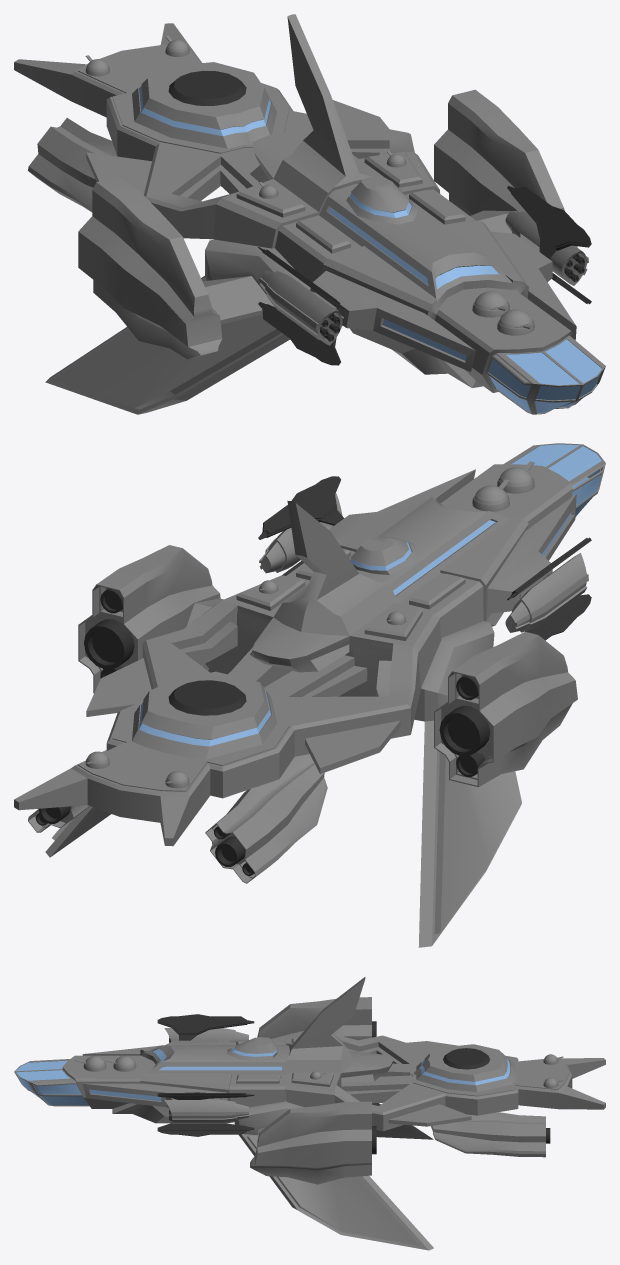
Rendered from Wraith.glb.
The picture shows the model from 3 angles, top to bottom: view 1: azimuth 30°, elevation 25°; view 2: azimuth 150°, elevation 25°; view 3: azimuth 270°, elevation 25°; orthographic projection. The views are drawn at different scales.
Parts seen in each view (by area): view 1: Куб.018; view 2: Куб.018; view 3: Куб.018.
Part boxes in pixels (x1,y1,x2,y2): Куб.018: (14, 14, 605, 414); Куб.018: (14, 443, 605, 947); Куб.018: (14, 977, 605, 1250).
Bounding box in the file's own units: 0.6375 × 0.5277 × 1.31.
